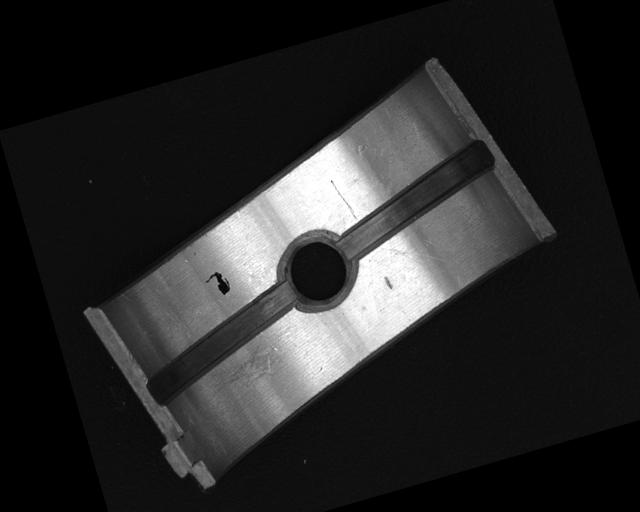blot: (202, 268, 233, 300)
bruise: (381, 273, 395, 292)
gap: (130, 280, 313, 406), (322, 140, 508, 263)
hole: (270, 223, 364, 316)
nick: (329, 175, 358, 223)
scratch: (190, 322, 302, 397)
